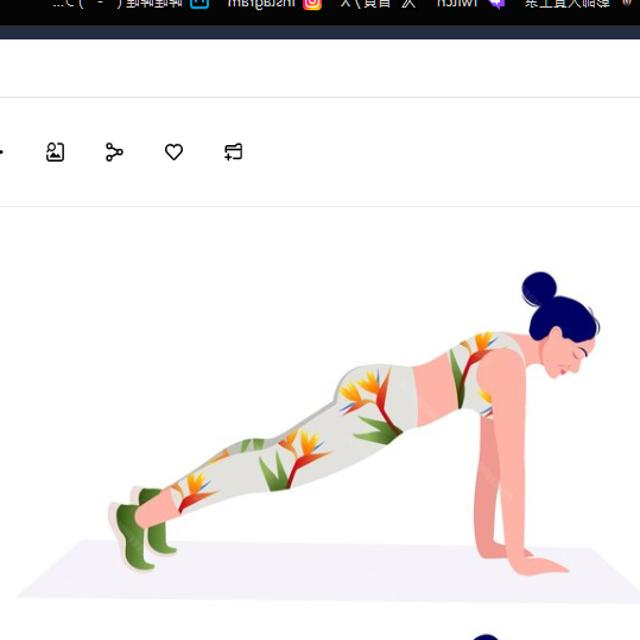Plank_Pose: (97, 270, 610, 588)
